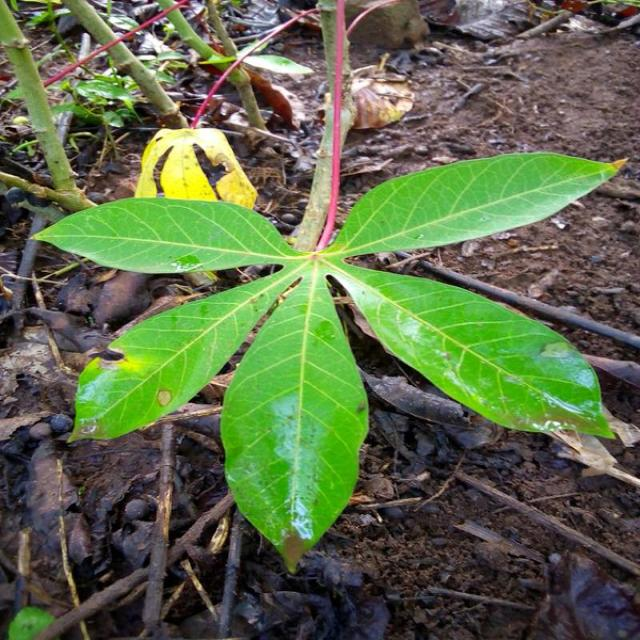cassava leaf: (324, 256, 617, 441), (220, 259, 370, 574), (326, 148, 628, 258), (32, 195, 306, 275), (135, 125, 259, 210)
